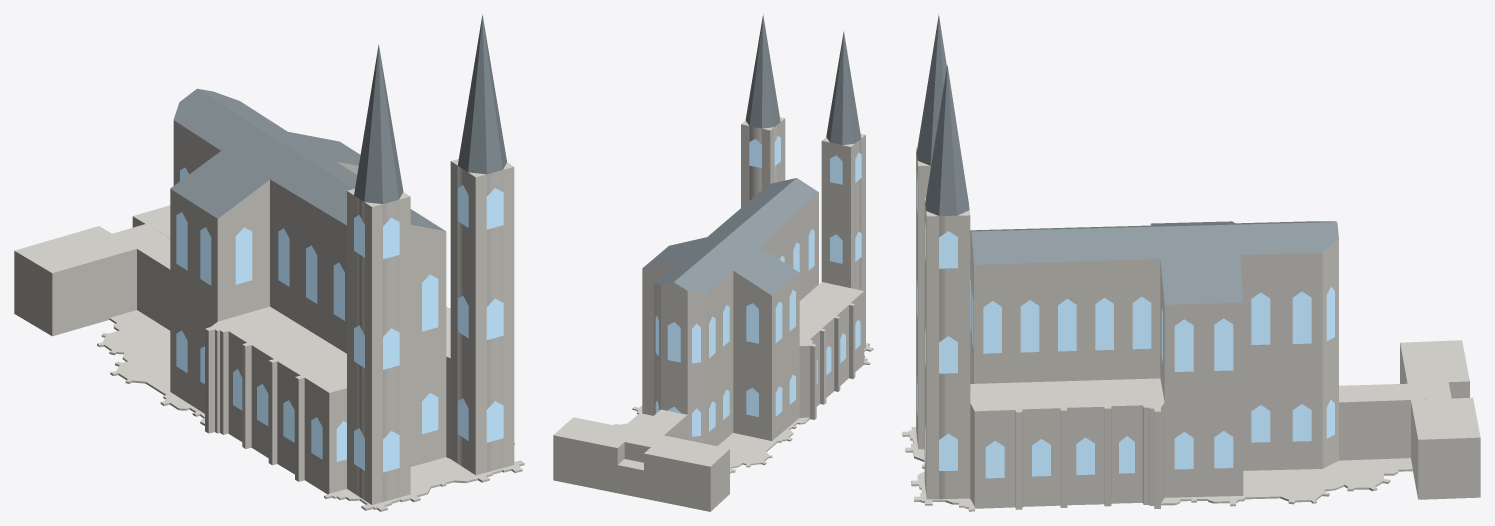
3 views of the same model, side by side, from view 1: azimuth 30°, elevation 25°; view 2: azimuth 150°, elevation 25°; view 3: azimuth 270°, elevation 25° (orthographic). The views are drawn at different scales.
Visible parts, largest first — view 1: stone, roof, window; view 2: stone, roof, window; view 3: stone, roof, window.
Part boxes in pixels (left/top/right/bottom): stone: left=14, top=120, right=524, bottom=511; roof: left=170, top=14, right=506, bottom=231; window: left=176, top=167, right=503, bottom=472; stone: left=553, top=117, right=873, bottom=511; roof: left=643, top=14, right=861, bottom=295; window: left=655, top=136, right=861, bottom=436; stone: left=902, top=147, right=1480, bottom=511; roof: left=916, top=14, right=1338, bottom=304; window: left=916, top=173, right=1334, bottom=478.
Size of the model in its own units: 31.97 by 57 by 69.88.
